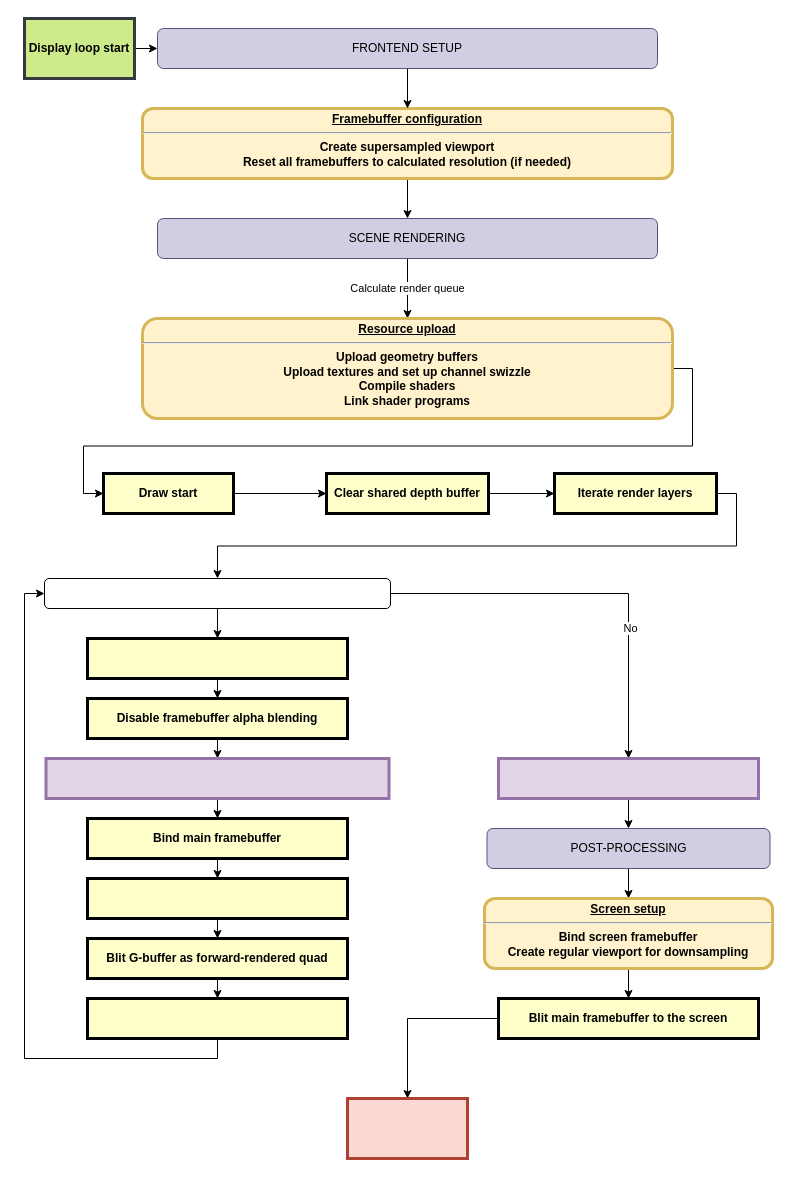
This 791x1177 diagram has some shape labels left out. The centre of each missing label's shape, as x and y in pixels:
"Are there any deferred render layers remaining?" belongs at point 217,593.
"Bind and reset G-buffer (keep depth buffer intact)" belongs at point 217,658.
"Display loop end." belongs at point 407,1128.
"Draw all deferred shader-based objects on the layer" belongs at point 217,778.
"Draw all forward shader-based objects" belongs at point 628,778.
"Enable depth buffer writes" belongs at point 217,1018.
"Enable framebuffer alpha blending + disable depth buffer writes" belongs at point 217,898.
